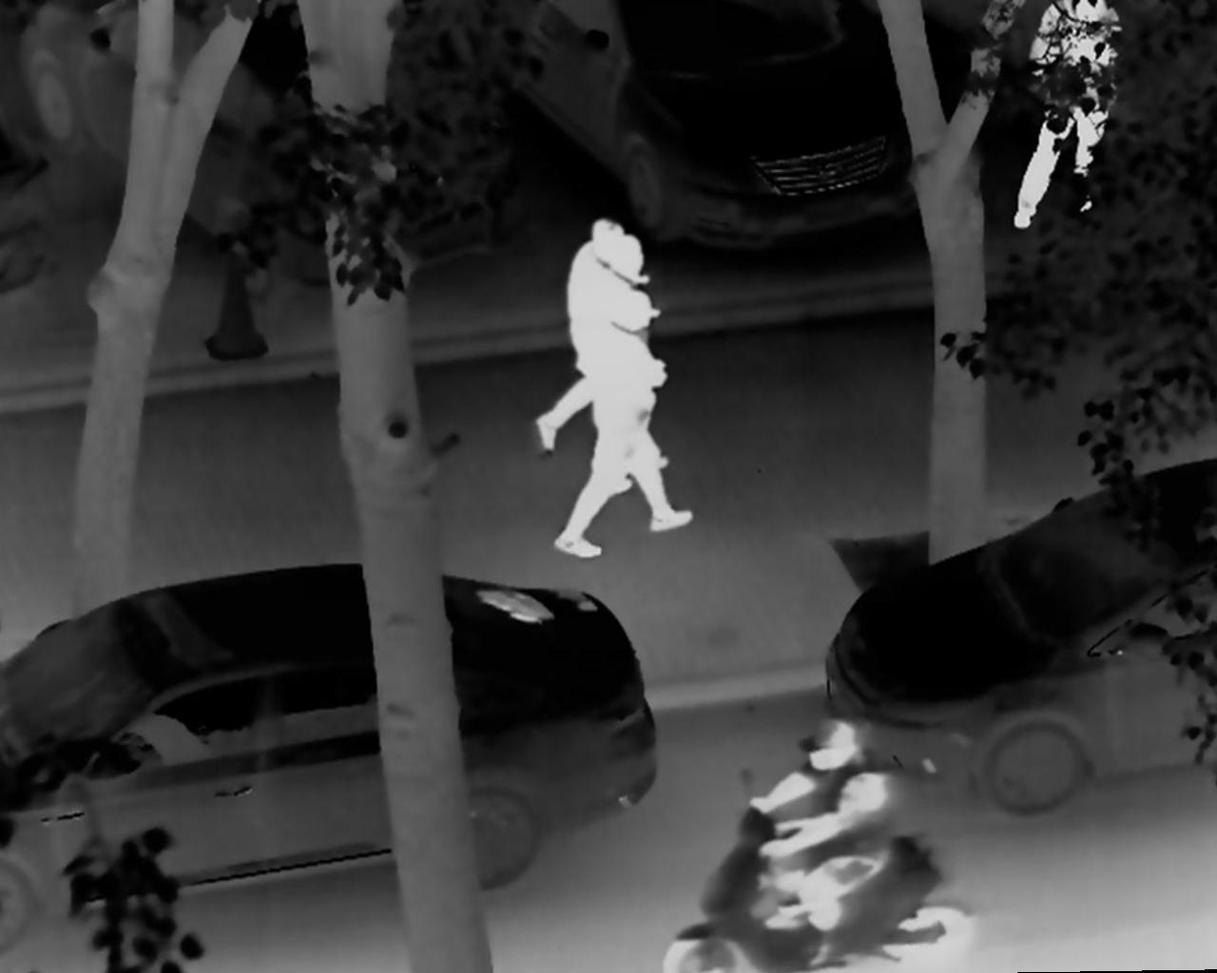person: (553, 291, 695, 559), (748, 716, 895, 968), (576, 235, 671, 499), (531, 218, 626, 454)
